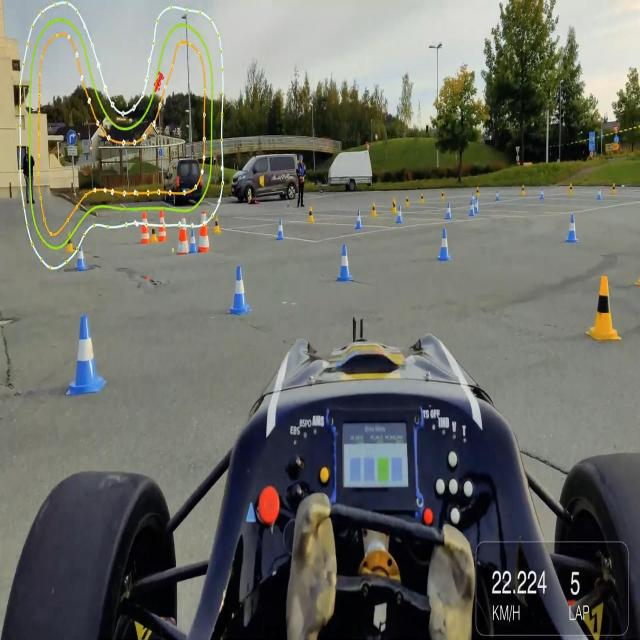blue_cone: (65, 314, 108, 396), (228, 266, 250, 316), (336, 238, 354, 282), (563, 213, 580, 244), (438, 229, 452, 262), (76, 246, 88, 270), (354, 206, 363, 230), (190, 228, 198, 254), (276, 219, 285, 242), (444, 201, 452, 220), (468, 200, 475, 216), (397, 206, 403, 224), (539, 187, 545, 200), (596, 188, 602, 200), (474, 197, 478, 213), (495, 189, 500, 201), (470, 191, 474, 204)
large_orange_cone: (199, 210, 210, 252), (178, 214, 189, 256), (158, 209, 168, 244), (140, 210, 150, 244)
yellow_cone: (586, 272, 624, 343), (306, 204, 314, 223), (634, 268, 640, 291), (214, 216, 221, 234), (151, 224, 157, 243), (371, 202, 377, 218), (420, 192, 426, 204), (568, 183, 574, 195), (392, 200, 397, 213), (612, 182, 616, 195), (476, 186, 480, 198), (441, 190, 445, 201), (406, 196, 410, 207), (392, 198, 396, 208), (521, 184, 525, 194)
